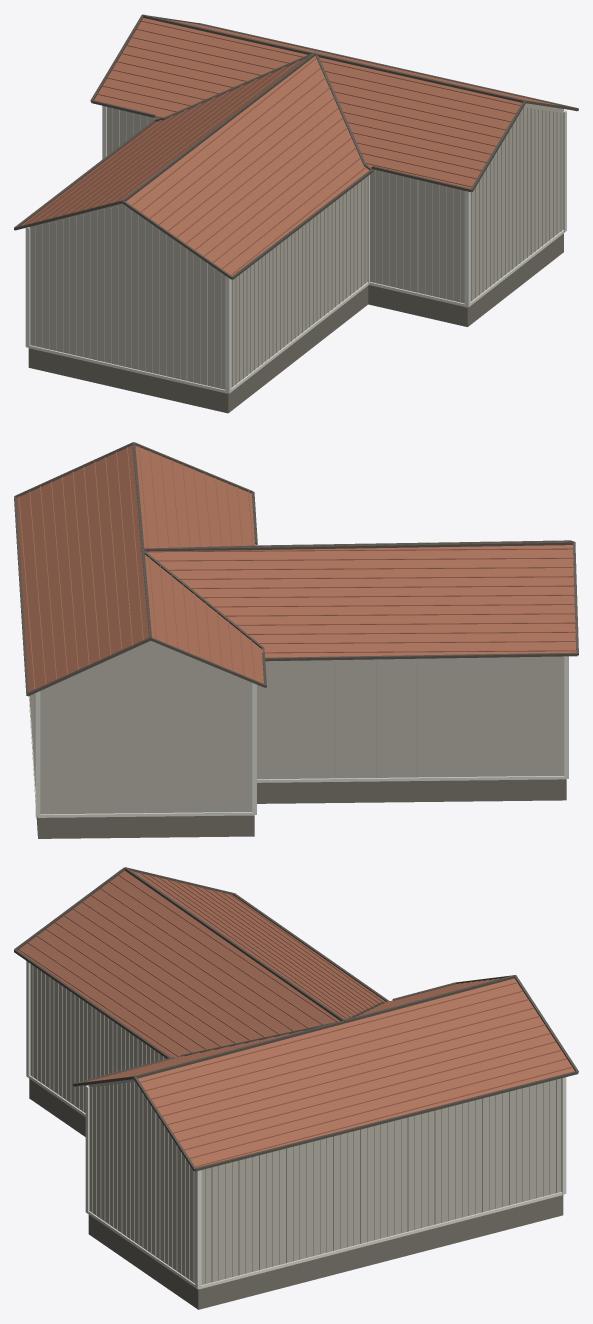
3 views of the same model, one above another, from view 1: azimuth 30°, elevation 25°; view 2: azimuth 150°, elevation 25°; view 3: azimuth 270°, elevation 25° (orthographic). The views are drawn at different scales.
Parts seen in each view (by area): view 1: Tortuna facility | nearby-house | Timber, Tortuna facility | nearby-house | Roof tile, Tortuna facility | nearby-house | Batten, Tortuna facility | nearby-house | Tile course, Tortuna facility | nearby-house | Foundation, Tortuna facility | nearby-house | Roof flashing, Tortuna facility | nearby-house | White trim; view 2: Tortuna facility | nearby-house | Roof tile, Tortuna facility | nearby-house | Timber, Tortuna facility | nearby-house | Tile course, Tortuna facility | nearby-house | Batten, Tortuna facility | nearby-house | Foundation, Tortuna facility | nearby-house | Roof flashing, Tortuna facility | nearby-house | White trim; view 3: Tortuna facility | nearby-house | Roof tile, Tortuna facility | nearby-house | Timber, Tortuna facility | nearby-house | Batten, Tortuna facility | nearby-house | Tile course, Tortuna facility | nearby-house | Foundation, Tortuna facility | nearby-house | Roof flashing, Tortuna facility | nearby-house | White trim.
Part boxes in pixels (box(x1,y1,x2,y2)): Tortuna facility | nearby-house | Timber: box(29, 103, 563, 389); Tortuna facility | nearby-house | Roof tile: box(21, 18, 521, 275); Tortuna facility | nearby-house | Batten: box(34, 107, 561, 388); Tortuna facility | nearby-house | Tile course: box(21, 19, 560, 275); Tortuna facility | nearby-house | Foundation: box(28, 233, 563, 413); Tortuna facility | nearby-house | Roof flashing: box(14, 14, 578, 279); Tortuna facility | nearby-house | White trim: box(25, 105, 566, 393); Tortuna facility | nearby-house | Roof tile: box(16, 445, 576, 691); Tortuna facility | nearby-house | Timber: box(40, 641, 564, 814); Tortuna facility | nearby-house | Tile course: box(18, 446, 576, 689); Tortuna facility | nearby-house | Batten: box(29, 642, 558, 814); Tortuna facility | nearby-house | Foundation: box(36, 779, 566, 838); Tortuna facility | nearby-house | Roof flashing: box(14, 442, 578, 696); Tortuna facility | nearby-house | White trim: box(28, 656, 568, 817); Tortuna facility | nearby-house | Roof tile: box(18, 870, 574, 1167); Tortuna facility | nearby-house | Timber: box(30, 964, 561, 1284); Tortuna facility | nearby-house | Batten: box(32, 965, 557, 1284); Tortuna facility | nearby-house | Tile course: box(18, 870, 572, 1167); Tortuna facility | nearby-house | Foundation: box(29, 1079, 563, 1309); Tortuna facility | nearby-house | Roof flashing: box(14, 867, 578, 1171); Tortuna facility | nearby-house | White trim: box(26, 961, 566, 1289).
Bounding box in the file's own units: 19.01 × 6.44 × 16.4.
